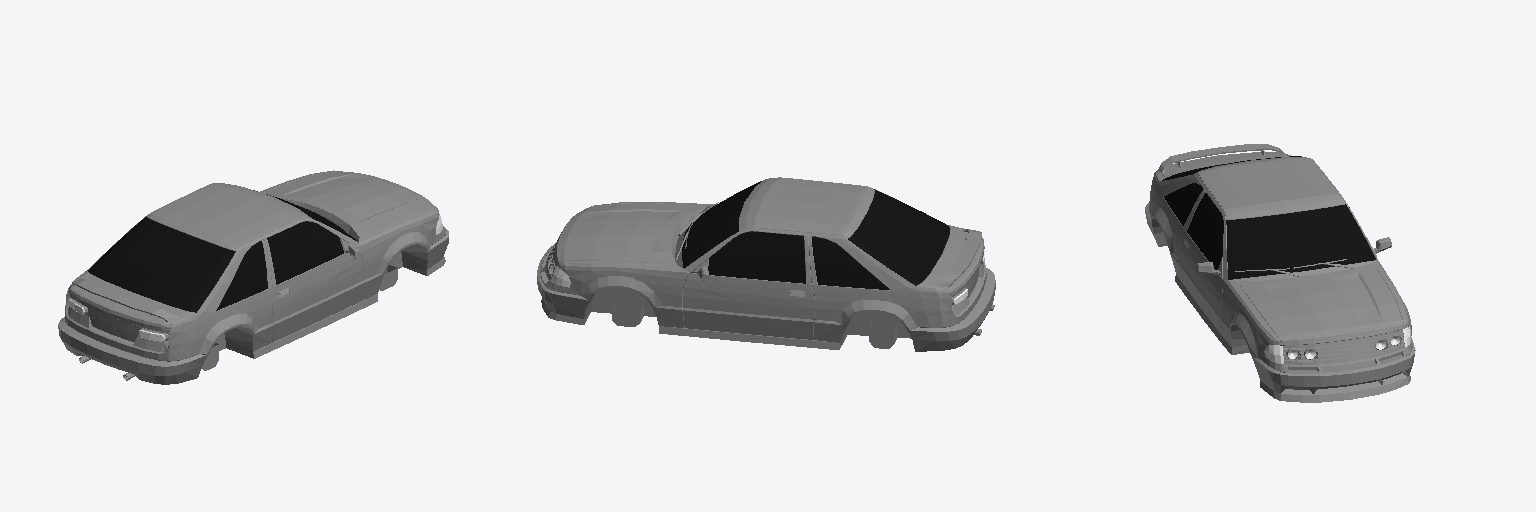
Rendered from CoupeBlue2.obj.
3 views of the same model, side by side, from view 1: azimuth 30°, elevation 25°; view 2: azimuth 150°, elevation 25°; view 3: azimuth 270°, elevation 25° (orthographic).
Visible parts, largest first — view 1: Coupe_Body_Mesh.005; view 2: Coupe_Body_Mesh.005; view 3: Coupe_Body_Mesh.005.
Part boxes in pixels (left/top/right/bottom): Coupe_Body_Mesh.005: left=58, top=170, right=448, bottom=384; Coupe_Body_Mesh.005: left=537, top=177, right=995, bottom=351; Coupe_Body_Mesh.005: left=1145, top=144, right=1415, bottom=402.
Bounding box in the file's own units: 4.73 × 1.31 × 2.82.